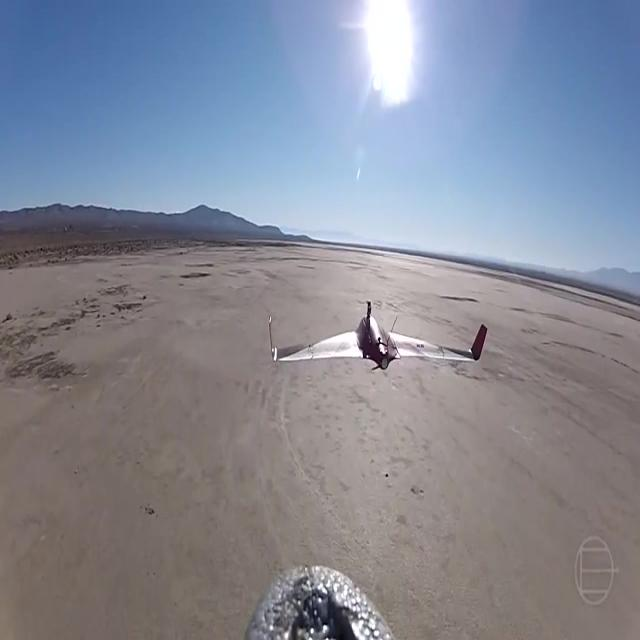iha: (265, 330, 489, 343)
